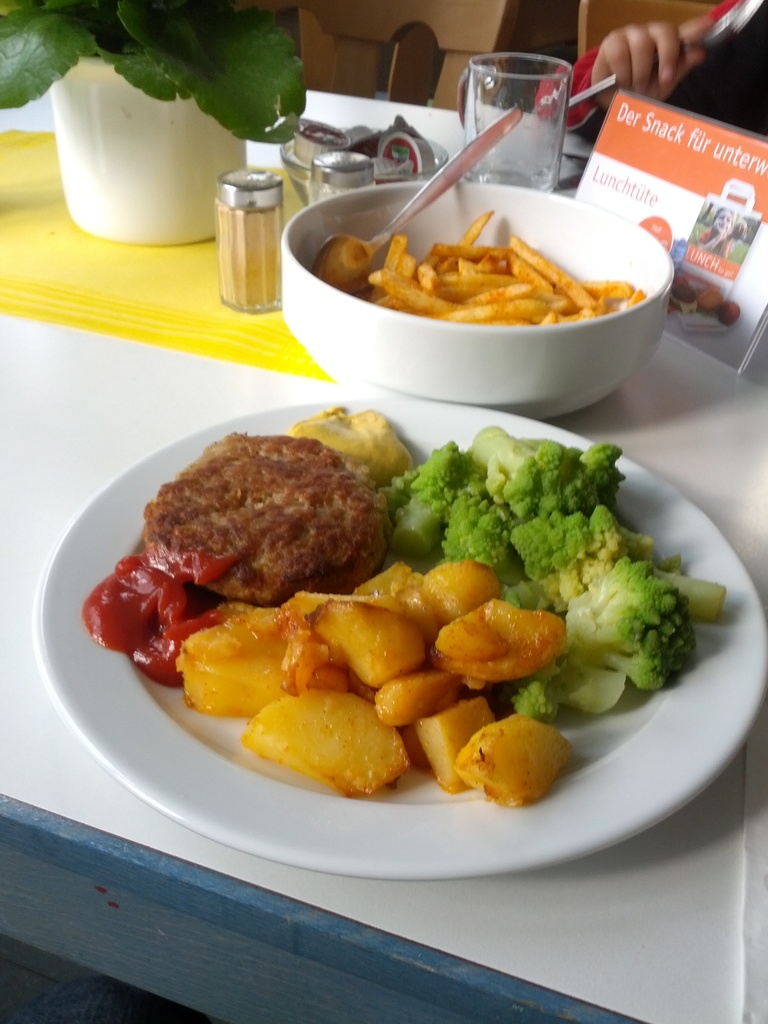French fries: (331, 197, 648, 335)
